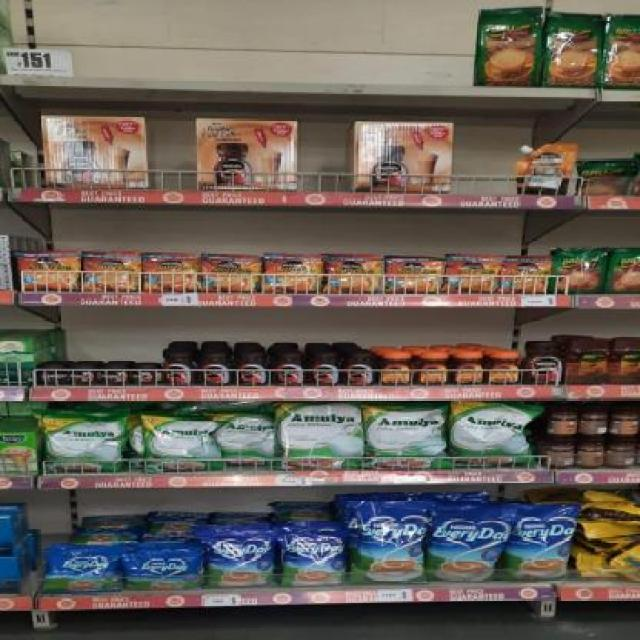Coffee: (22, 252, 78, 291), (85, 253, 140, 292), (328, 254, 380, 294), (203, 256, 259, 293), (144, 254, 198, 292), (267, 255, 321, 293), (389, 258, 442, 293), (448, 258, 498, 294), (503, 257, 551, 294), (524, 341, 564, 385), (162, 352, 198, 386), (197, 352, 232, 386), (235, 352, 268, 386), (271, 352, 304, 386), (416, 353, 449, 385), (378, 353, 411, 385), (343, 353, 375, 385), (487, 353, 519, 385), (308, 353, 340, 385), (451, 353, 483, 385), (39, 363, 67, 386), (100, 365, 130, 386), (132, 365, 160, 386), (69, 365, 97, 386)
